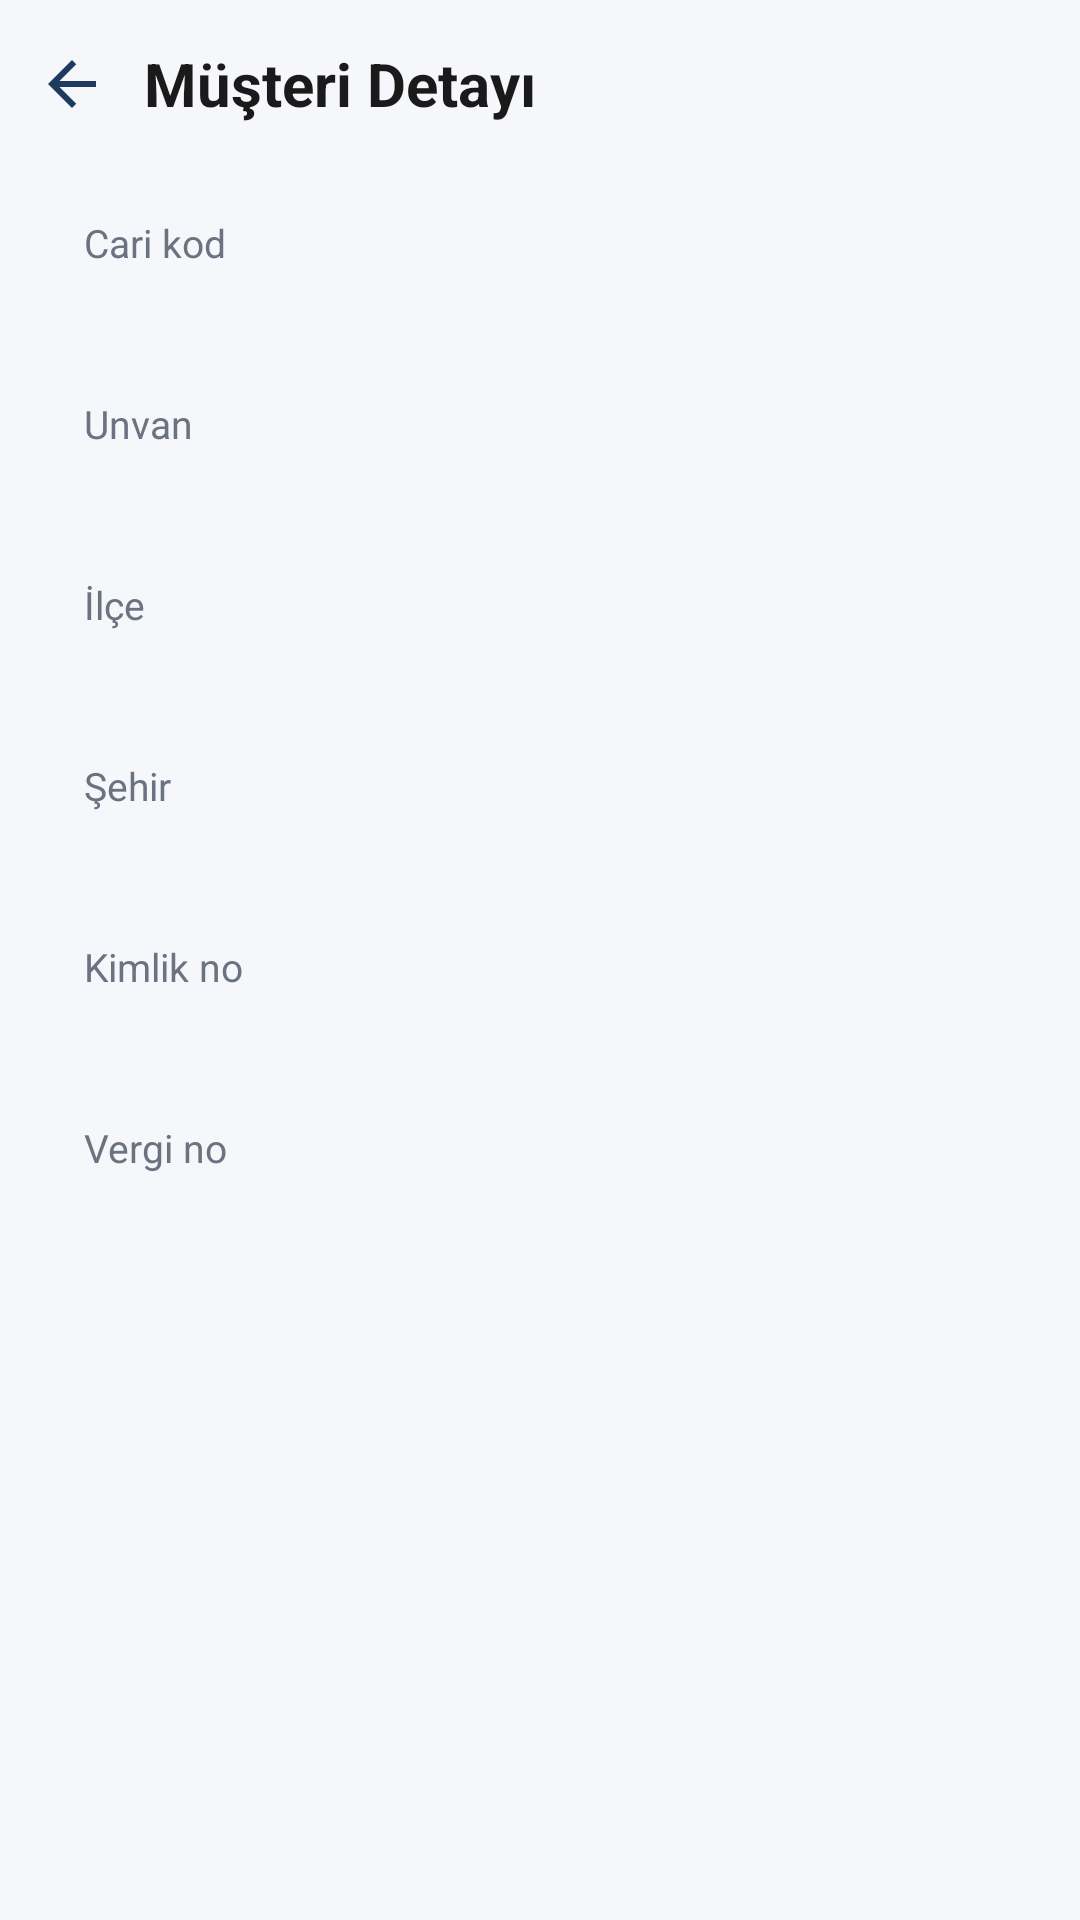

Icon click points for this 1080*1920 phone screenshot, format point (x, y):
Geri: point (72, 84)
